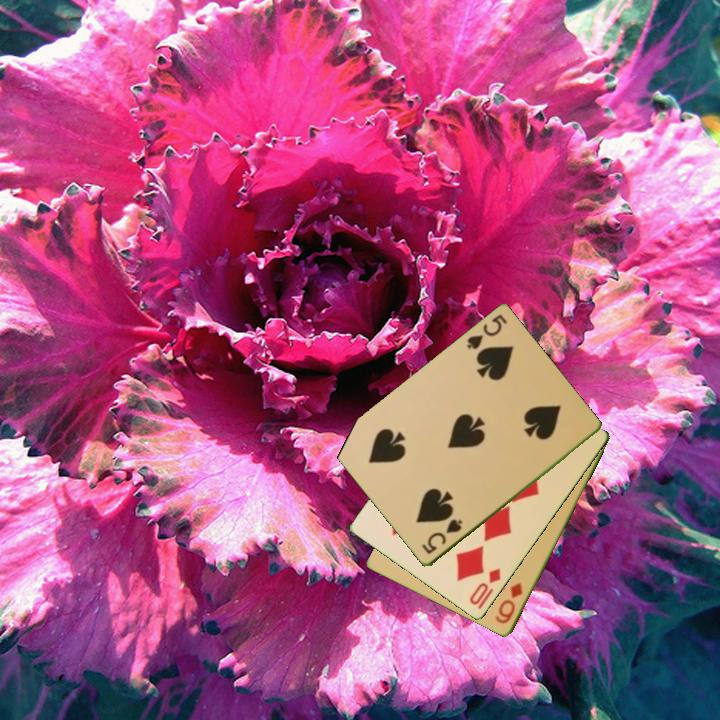10d: (466, 565, 504, 609)
5s: (418, 516, 466, 558), (463, 311, 510, 353)
6d: (492, 579, 526, 627)
